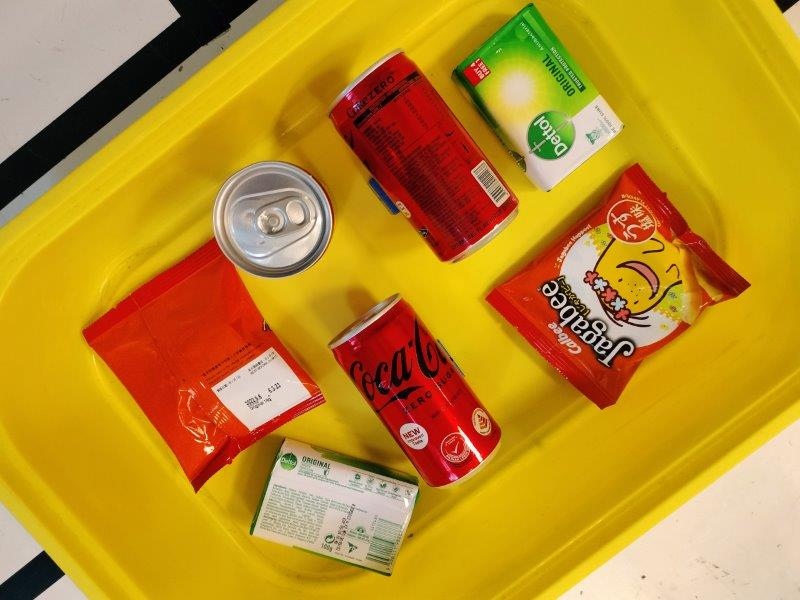Coke: (325, 46, 520, 264), (329, 292, 506, 490), (210, 159, 338, 278)
Dettol: (452, 3, 626, 191), (250, 438, 419, 575)
Jagabee: (483, 164, 754, 411), (83, 236, 329, 494)
